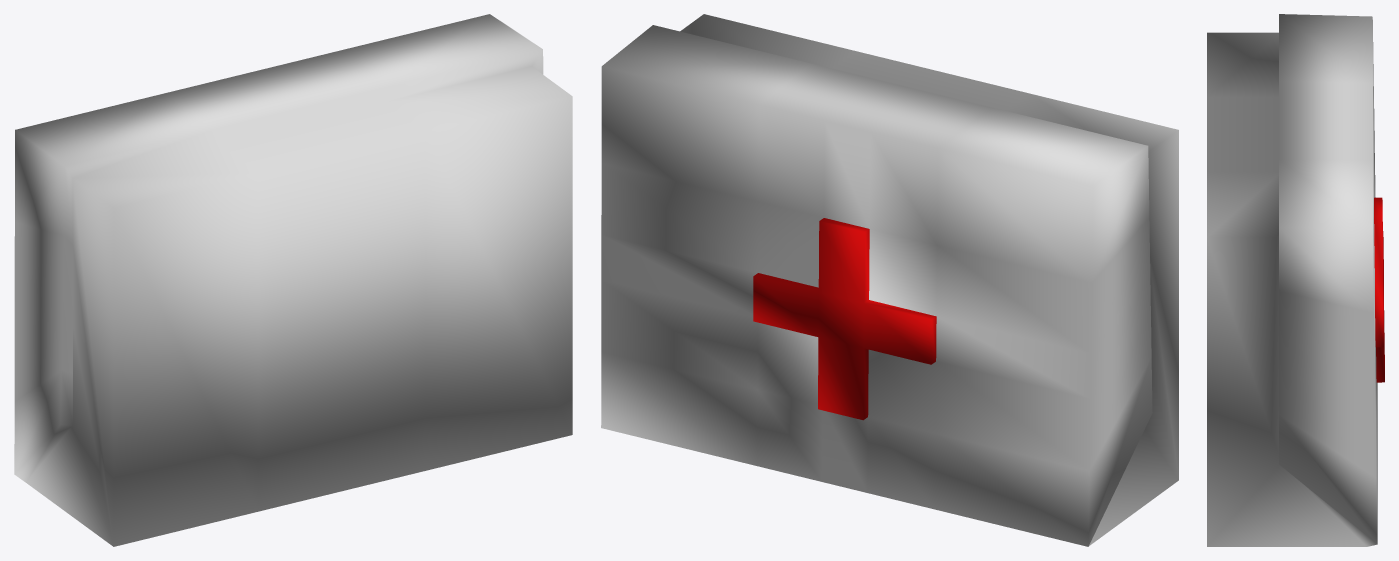
Rendered from item-healthpack.glb.
3 renders of one model, left to right at view 1: azimuth 30°, elevation 25°; view 2: azimuth 150°, elevation 25°; view 3: azimuth 270°, elevation 25°, orthographic. The views are drawn at different scales.
Size of the model in its own units: 7.55 by 5.26 by 2.62.
